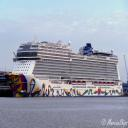cruises: (4, 36, 125, 100)
